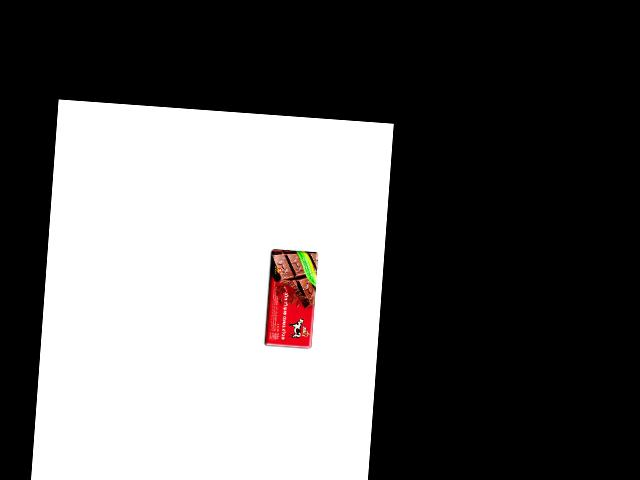chocolate: (259, 248, 319, 351)
